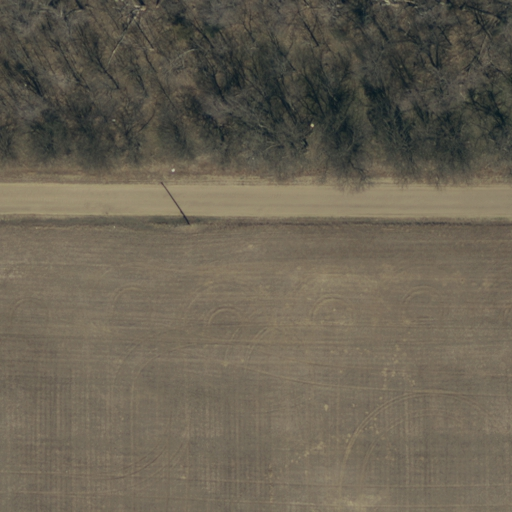DT: (173, 208, 205, 240)
